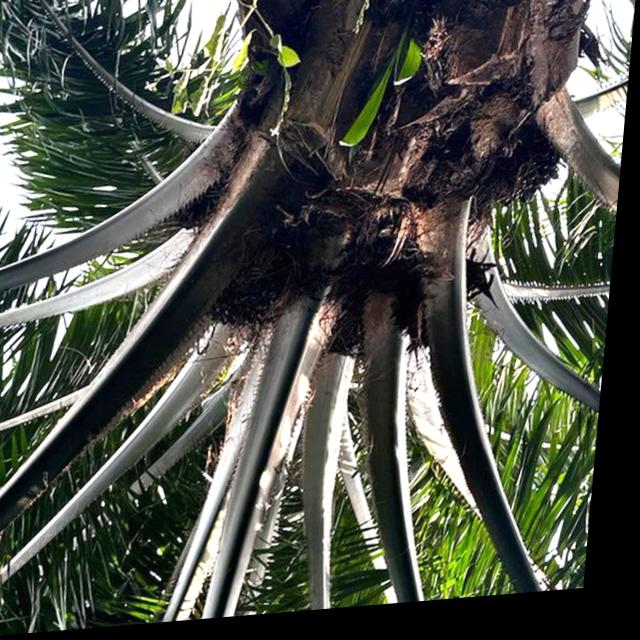unripe: (194, 211, 326, 342), (477, 133, 581, 231)
